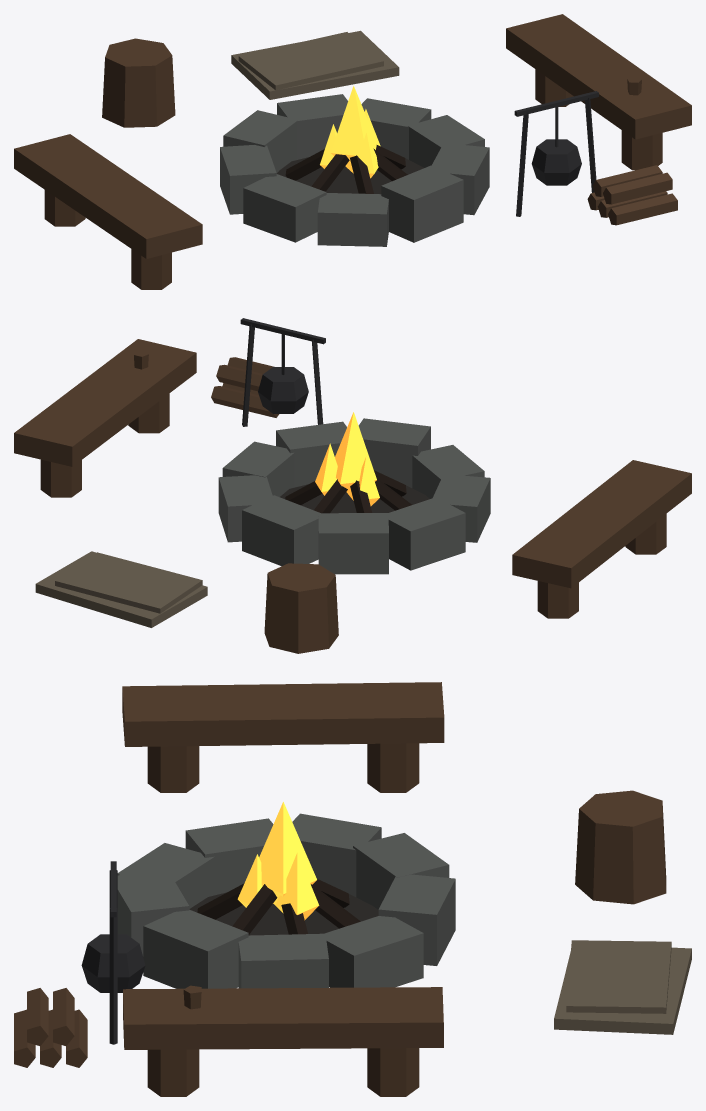
The model's file is campfire.glb.
3 renders of one model, top to bottom at view 1: azimuth 30°, elevation 25°; view 2: azimuth 150°, elevation 25°; view 3: azimuth 270°, elevation 25°, orthographic. The views are drawn at different scales.
Visible parts, largest first — view 1: Ring, BenchWest, BenchEast, Props, SeatBlanket, SeatStump, Flame, Logs; view 2: Ring, BenchWest, BenchEast, SeatBlanket, Props, SeatStump, Flame, Logs; view 3: Ring, BenchWest, BenchEast, SeatBlanket, Props, SeatStump, Flame, Logs.
Boxes of the visible parts, left/top/right/bottom form: Ring: left=220, top=94, right=489, bottom=246; BenchWest: left=14, top=134, right=202, bottom=289; BenchEast: left=506, top=14, right=691, bottom=170; Props: left=514, top=76, right=677, bottom=225; SeatBlanket: left=231, top=30, right=399, bottom=99; SeatStump: left=102, top=38, right=175, bottom=127; Flame: left=320, top=86, right=380, bottom=178; Logs: left=285, top=145, right=407, bottom=193; Ring: left=218, top=418, right=490, bottom=574; BenchWest: left=512, top=460, right=691, bottom=618; BenchEast: left=14, top=339, right=196, bottom=497; SeatBlanket: left=35, top=551, right=207, bottom=627; Props: left=134, top=318, right=325, bottom=426; SeatStump: left=264, top=563, right=338, bottom=653; Flame: left=315, top=412, right=379, bottom=506; Logs: left=285, top=470, right=411, bottom=513; Ring: left=117, top=813, right=455, bottom=988; BenchWest: left=122, top=682, right=444, bottom=792; BenchEast: left=123, top=987, right=443, bottom=1096; SeatBlanket: left=554, top=940, right=691, bottom=1034; Props: left=14, top=861, right=201, bottom=1067; SeatStump: left=575, top=790, right=666, bottom=904; Flame: left=237, top=802, right=319, bottom=920; Logs: left=197, top=879, right=360, bottom=934.
Bounding box in the file's own units: 4.06 × 0.7416 × 3.39.
